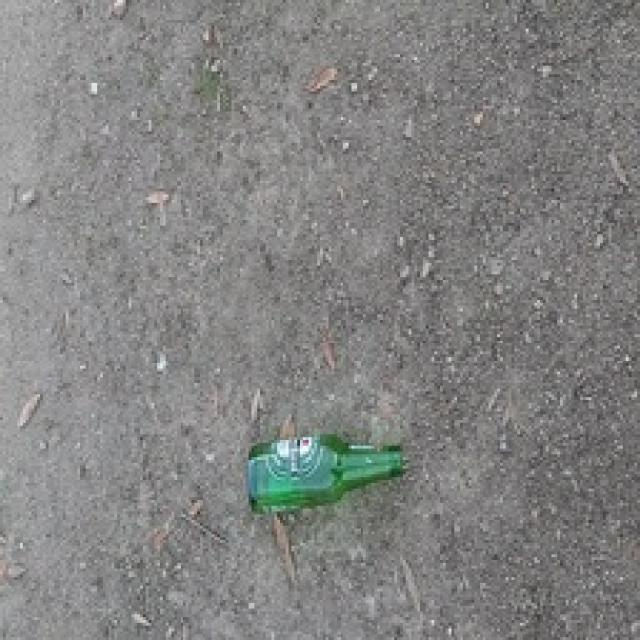garbage: (208, 437, 486, 524)
